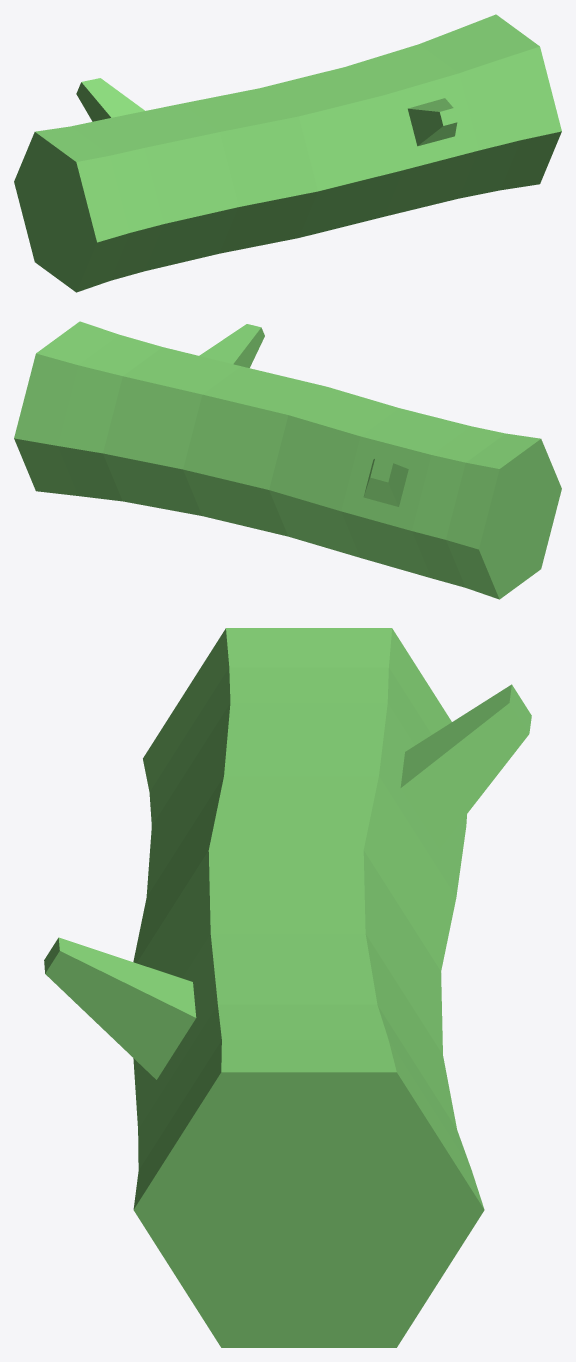
Rendered from trunk.fbx.
3 renders of one model, top to bottom at view 1: azimuth 30°, elevation 25°; view 2: azimuth 150°, elevation 25°; view 3: azimuth 270°, elevation 25°, orthographic. The views are drawn at different scales.
Visible parts, largest first — view 1: trunk; view 2: trunk; view 3: trunk.
Boxes of the visible parts, left/top/right/bottom form: trunk: left=14, top=14, right=561, bottom=292; trunk: left=14, top=321, right=561, bottom=599; trunk: left=44, top=628, right=531, bottom=1347.
Size of the model in its own units: 341 by 101 by 156.
